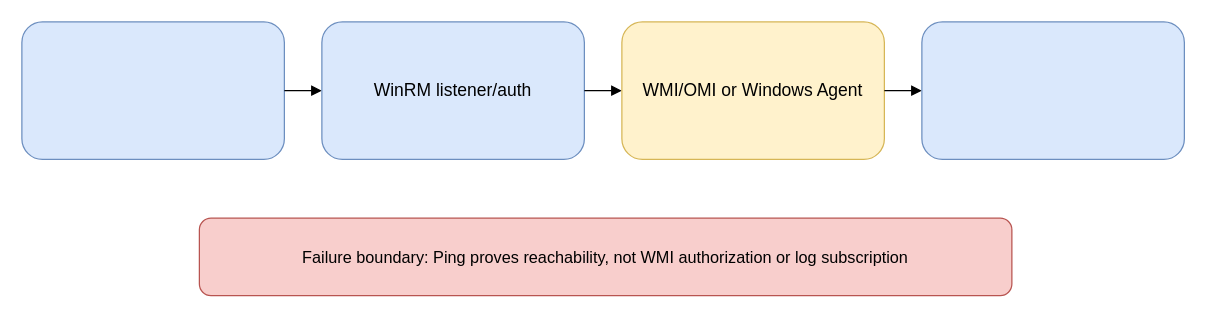
The diagram is 1206 pixels wide and 318 high, and some of its shapes have lost their labels. Here are the shapes that lost their labels. From the top down, the box of each, then its label:
(21, 21, 284, 159): FortiSIEM Supervisor/Collector
(921, 21, 1184, 159): Normalized events/metrics
